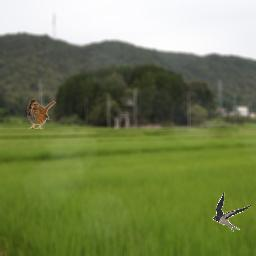Sparrow: (27, 99, 56, 129)
Swallow: (212, 192, 251, 232)
